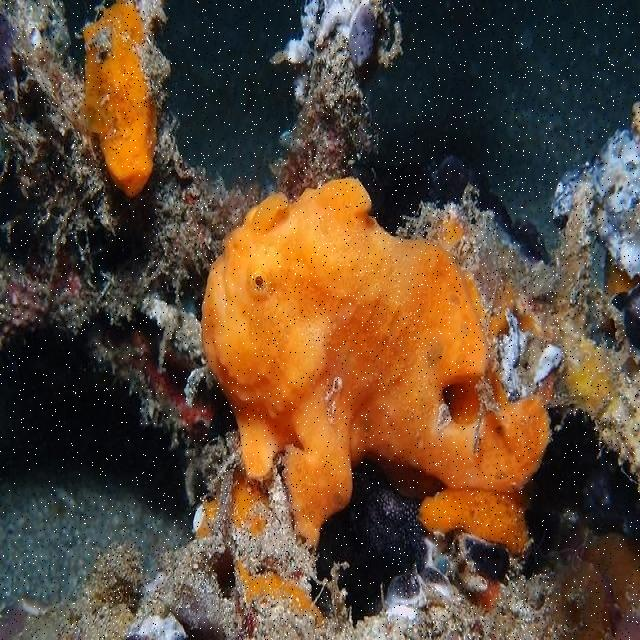fish: (201, 177, 550, 554), (76, 3, 160, 192)
